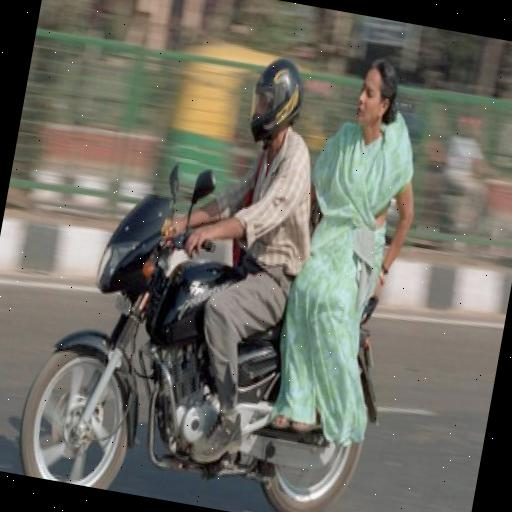helmet: (12, 0, 345, 502)
